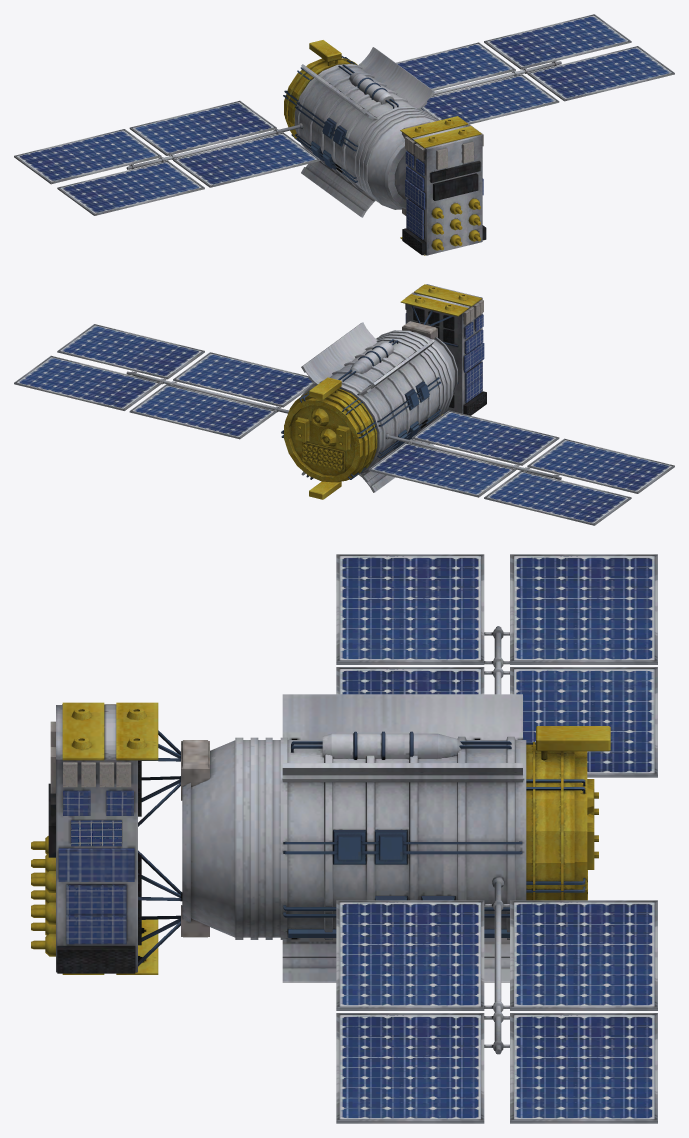
The model's file is WeiXing3.gltf.
3 views of the same model, one above another, from view 1: azimuth 30°, elevation 25°; view 2: azimuth 150°, elevation 25°; view 3: azimuth 270°, elevation 25° (orthographic). The views are drawn at different scales.
Visible parts, largest first — view 1: WeiXing3; view 2: WeiXing3; view 3: WeiXing3.
Part boxes in pixels (<box>): WeiXing3: <box>14,14,674,255</box>; WeiXing3: <box>14,284,674,525</box>; WeiXing3: <box>31,554,657,1123</box>.
Bounding box in the file's own units: 3.02 × 0.5648 × 1.41.
1 material, 1 textured.
